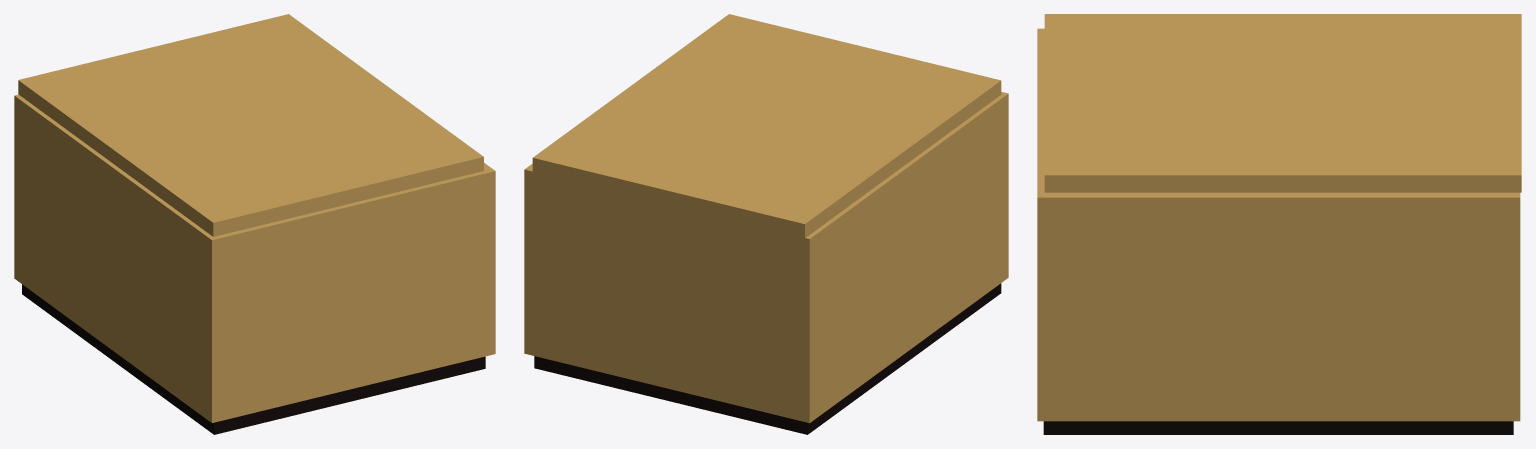
The model's file is FloorPlan29_Backup.fbx.
3 renders of one model, left to right at view 1: azimuth 30°, elevation 25°; view 2: azimuth 150°, elevation 25°; view 3: azimuth 270°, elevation 25°, orthographic. The views are drawn at different scales.
Visible parts, largest first — view 1: Baseboard.004; view 2: Baseboard.004; view 3: Baseboard.004.
Boxes of the visible parts, x1,y1,x2,y2 form: Baseboard.004: (14, 14, 495, 434); Baseboard.004: (524, 14, 1008, 434); Baseboard.004: (1037, 14, 1521, 434).
Size of the model in its own units: 428 by 305 by 517.
